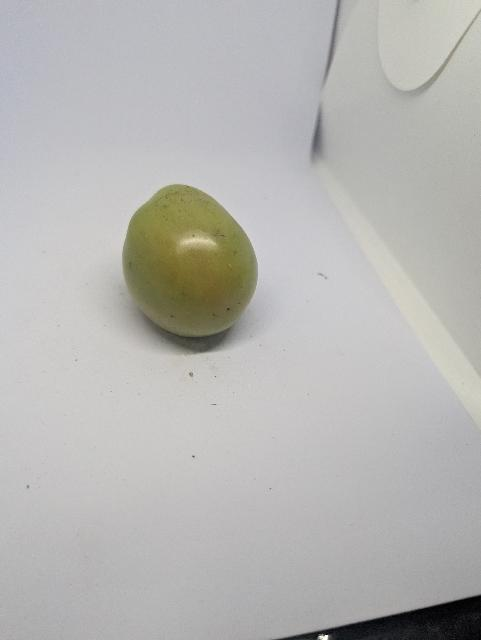green: (120, 181, 261, 341)
